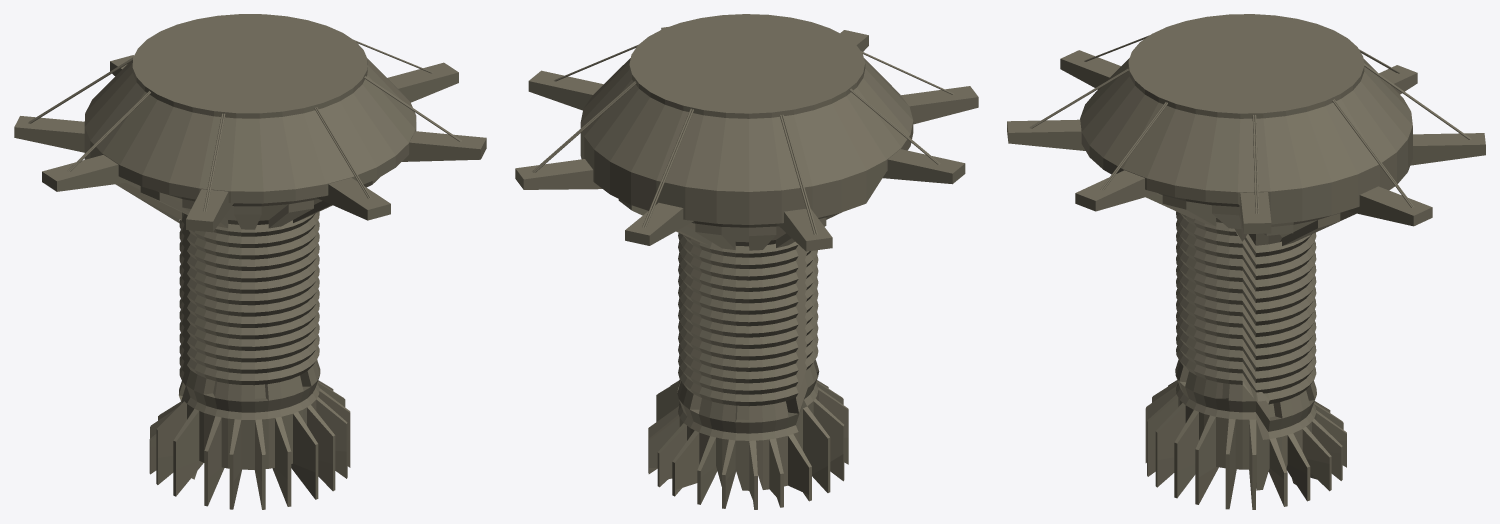
File: tower-2-aoe.gltf
3 views of the same model, side by side, from view 1: azimuth 30°, elevation 25°; view 2: azimuth 150°, elevation 25°; view 3: azimuth 270°, elevation 25° (orthographic).
Visible parts, largest first — view 1: Tower AOE; view 2: Tower AOE; view 3: Tower AOE.
Part boxes in pixels (bbox=[...]): Tower AOE: bbox=[14, 14, 486, 509]; Tower AOE: bbox=[515, 14, 978, 509]; Tower AOE: bbox=[1007, 14, 1485, 509].
Size of the model in its own units: 5.34 by 4.98 by 5.34.
